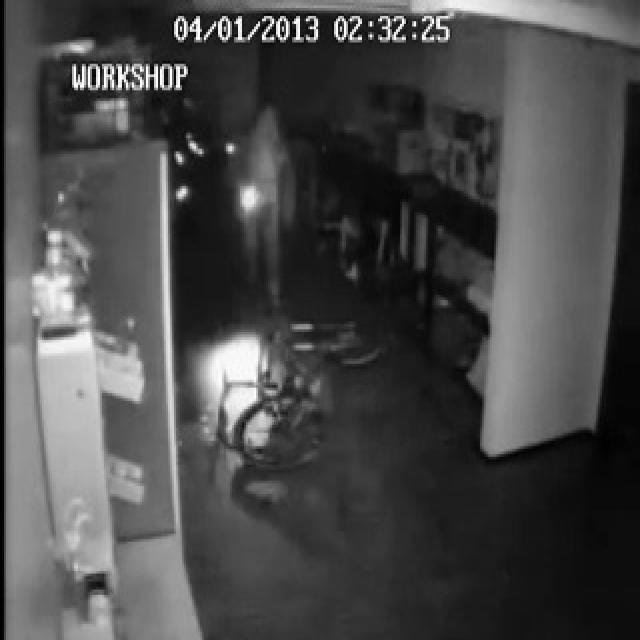thief: (238, 95, 295, 305)
